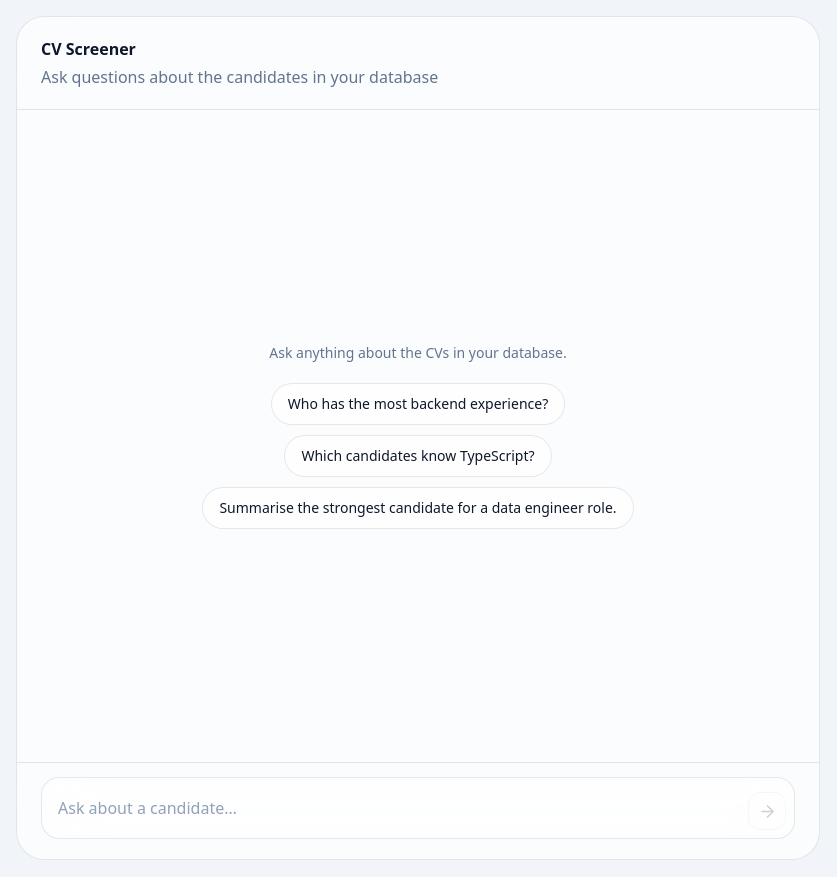
Test: ChatPage › sends a typed question and renders an empty-matches reply with its sources
Type "Who knows TypeScript?" into the text box with placeholder "Ask about a candidate…" at (394,808), box left=50, top=786, right=738, bottom=830
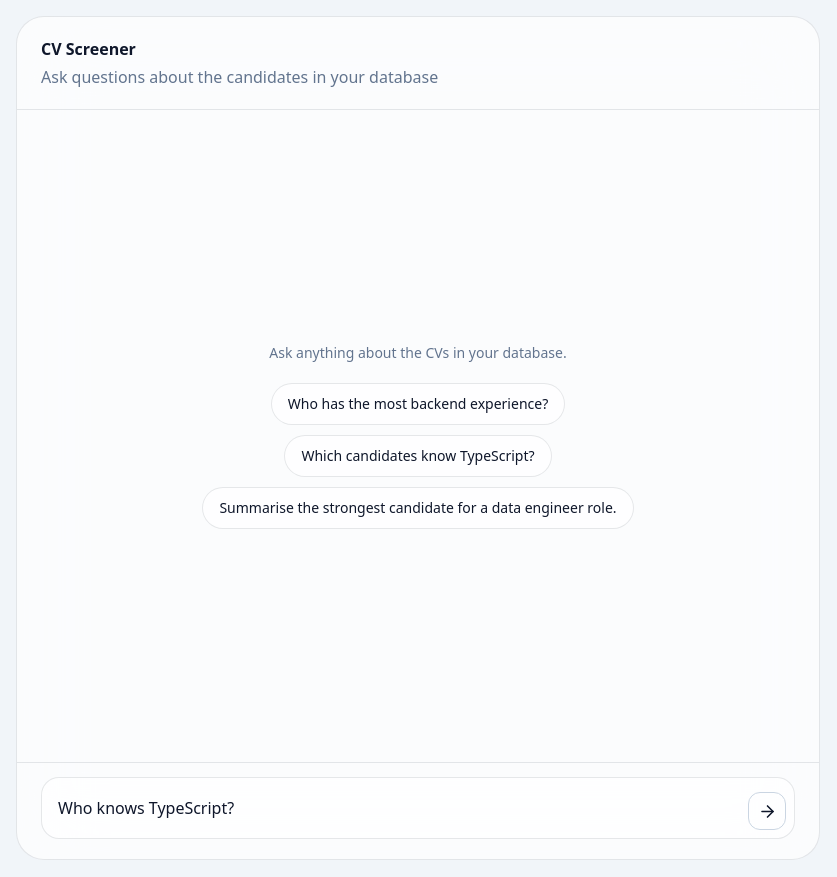
Click the button named "Send question" at (767,811), box left=748, top=792, right=786, bottom=830
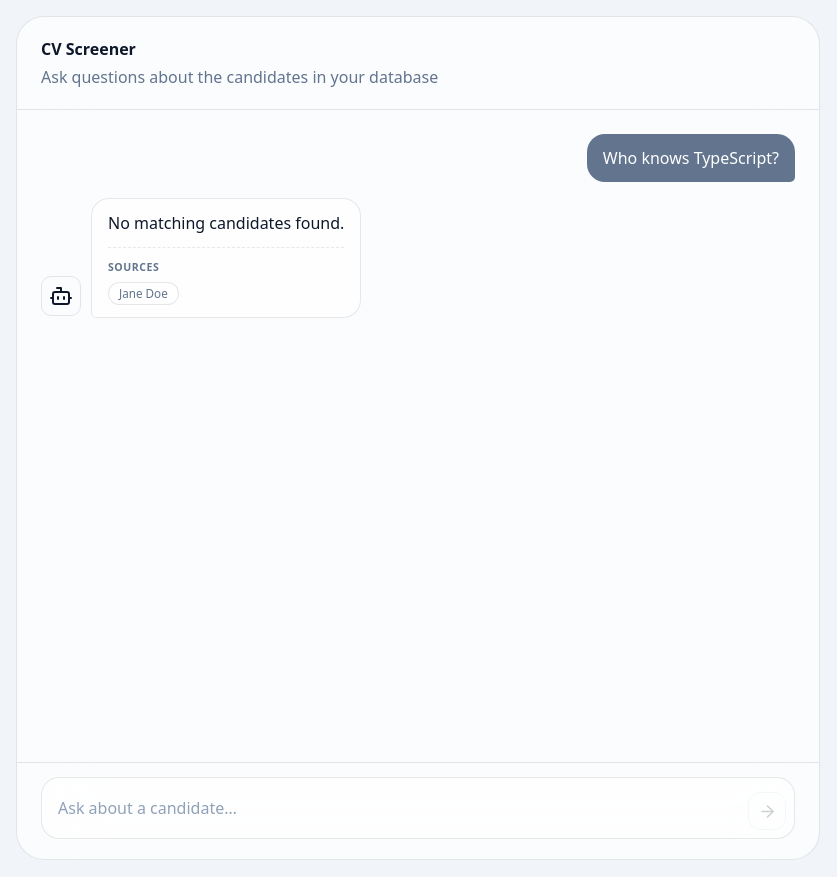
expect the text "Who knows TypeScript?" is shown: met, box left=603, top=146, right=779, bottom=170
expect the text "No matching candidates found." is shown: met, box left=108, top=211, right=344, bottom=235
expect the text "Jane Doe" is shown: met, box left=108, top=282, right=179, bottom=305
